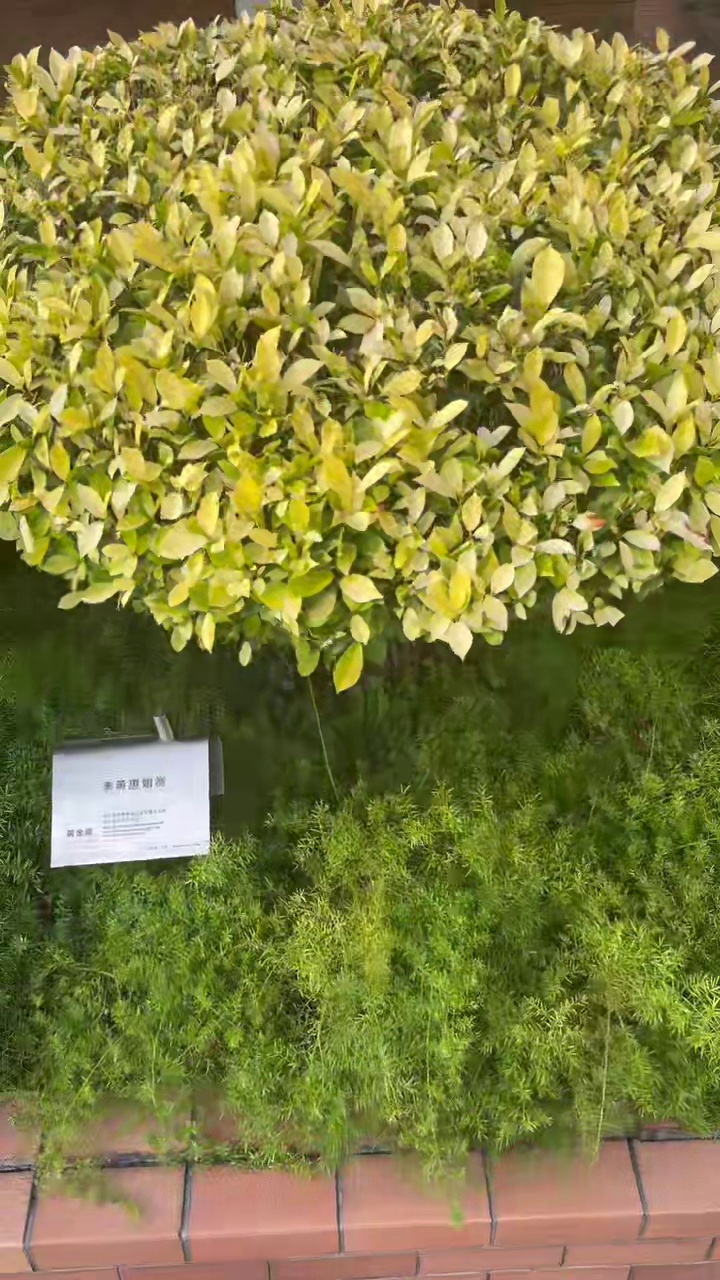Golden-leaves Fig: (0, 0, 719, 690)
